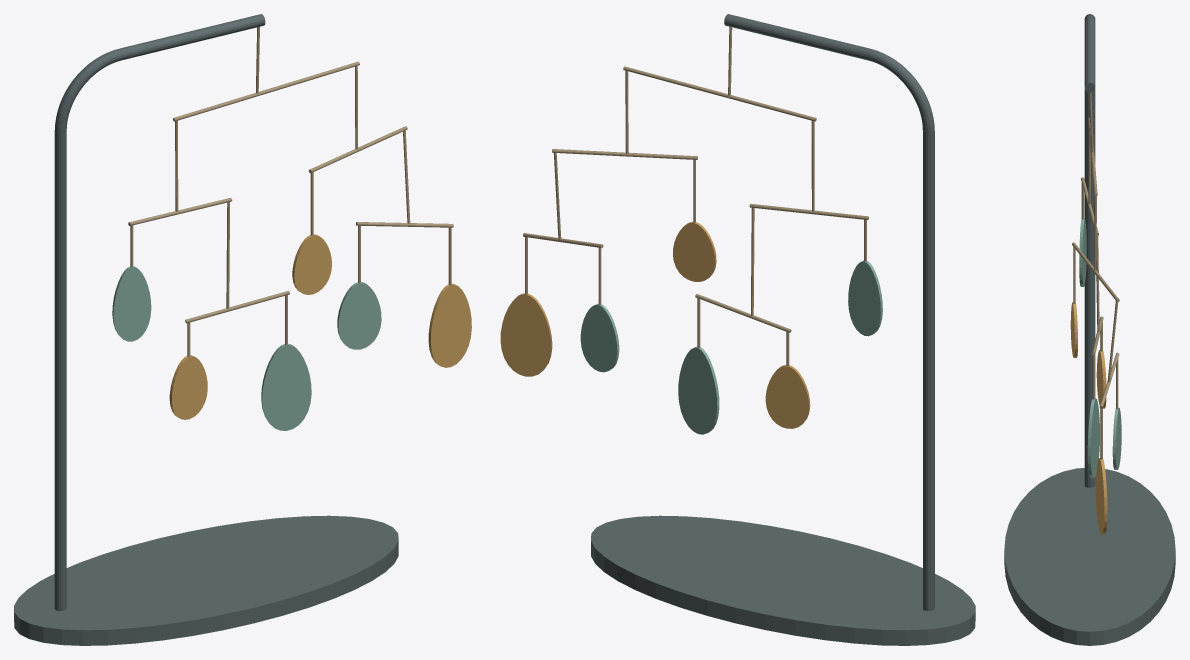
3 renders of one model, left to right at view 1: azimuth 30°, elevation 25°; view 2: azimuth 150°, elevation 25°; view 3: azimuth 270°, elevation 25°, orthographic. The views are drawn at different scales.
Parts seen in each view (by area): view 1: WholeEllipticalGroundedFoot, WholeRoundedCantileverStand, WholeThickOrganicLeafC, WholeThickOrganicLeafF, WholeThickOrganicLeafE, WholeThickOrganicLeafA, WholeThickOrganicLeafB, WholeThickOrganicLeafD, WholeBranchRodTop; view 2: WholeEllipticalGroundedFoot, WholeRoundedCantileverStand, WholeThickOrganicLeafF, WholeThickOrganicLeafC, WholeThickOrganicLeafB, WholeThickOrganicLeafA, WholeThickOrganicLeafE, WholeThickOrganicLeafD, WholeBranchRodTop; view 3: WholeEllipticalGroundedFoot, WholeRoundedCantileverStand, WholeThickOrganicLeafC, WholeThickOrganicLeafF, WholeThickOrganicLeafE, WholeThickOrganicLeafA, WholeThickOrganicLeafB, WholeThickOrganicLeafD, WholeBranchRodRight, WholeLowerLeftSuspension, WholeLowerRightSuspension.
Boxes of the visible parts, box(x1,y1,x2,y2) form: WholeEllipticalGroundedFoot: box(14, 515, 398, 645); WholeRoundedCantileverStand: box(54, 14, 265, 610); WholeThickOrganicLeafC: box(261, 343, 311, 430); WholeThickOrganicLeafF: box(428, 283, 471, 367); WholeThickOrganicLeafE: box(337, 282, 381, 349); WholeThickOrganicLeafA: box(112, 266, 151, 341); WholeThickOrganicLeafB: box(169, 355, 207, 419); WholeThickOrganicLeafD: box(292, 234, 331, 294); WholeBranchRodTop: box(173, 61, 359, 121); WholeEllipticalGroundedFoot: box(591, 515, 975, 645); WholeRoundedCantileverStand: box(724, 14, 934, 610); WholeThickOrganicLeafF: box(500, 293, 552, 376); WholeThickOrganicLeafC: box(678, 346, 719, 434); WholeThickOrganicLeafB: box(765, 365, 810, 428); WholeThickOrganicLeafA: box(848, 260, 882, 336); WholeThickOrganicLeafE: box(580, 304, 619, 372); WholeThickOrganicLeafD: box(673, 221, 716, 281); WholeBranchRodTop: box(623, 66, 816, 121); WholeEllipticalGroundedFoot: box(1004, 468, 1175, 645); WholeRoundedCantileverStand: box(1084, 14, 1095, 487); WholeThickOrganicLeafC: box(1087, 398, 1099, 477); WholeThickOrganicLeafF: box(1095, 458, 1107, 534); WholeThickOrganicLeafE: box(1112, 407, 1121, 469); WholeThickOrganicLeafA: box(1079, 218, 1086, 286); WholeThickOrganicLeafB: box(1096, 350, 1106, 408); WholeThickOrganicLeafD: box(1070, 302, 1077, 357); WholeBranchRodRight: box(1072, 242, 1119, 302); WholeLowerLeftSuspension: box(1096, 236, 1099, 331); WholeLowerRightSuspension: box(1107, 301, 1118, 382).
Bounding box in the file's own units: 1.23 × 1.43 × 0.44.
